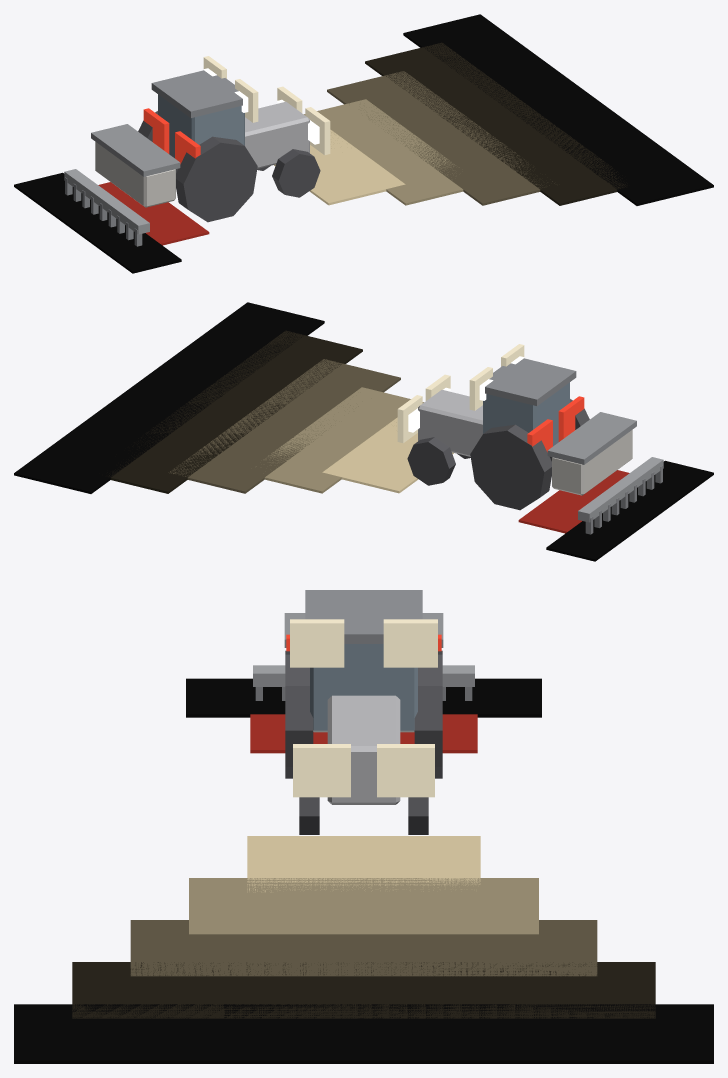
File: veh_tractor_drill.glb
3 renders of one model, top to bottom at view 1: azimuth 30°, elevation 25°; view 2: azimuth 150°, elevation 25°; view 3: azimuth 270°, elevation 25°, orthographic. The views are drawn at different scales.
Visible parts, largest first — view 1: veh_tractor_drill; view 2: veh_tractor_drill; view 3: veh_tractor_drill.
Boxes of the visible parts, x1=… form: veh_tractor_drill: x1=14, y1=14, x2=713, y2=273; veh_tractor_drill: x1=14, y1=302, x2=713, y2=561; veh_tractor_drill: x1=14, y1=590, x2=713, y2=1063.
Size of the model in its own units: 1 by 0.217 by 0.7728.
